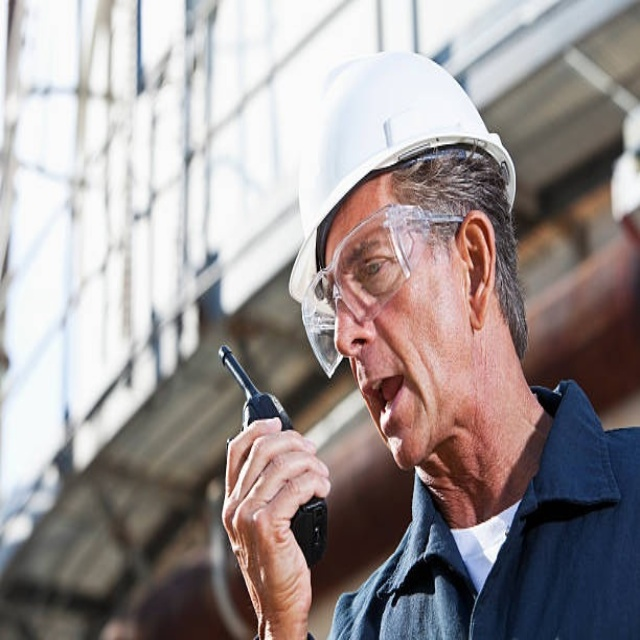Gafas: (304, 204, 470, 374)
Sin_guantes: (219, 413, 330, 640)
Sin_mascara: (352, 355, 436, 458)
